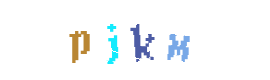J: (73, 0, 153, 80)
K: (95, 0, 175, 80)
M: (119, 0, 199, 80)
P: (39, 0, 119, 80)
